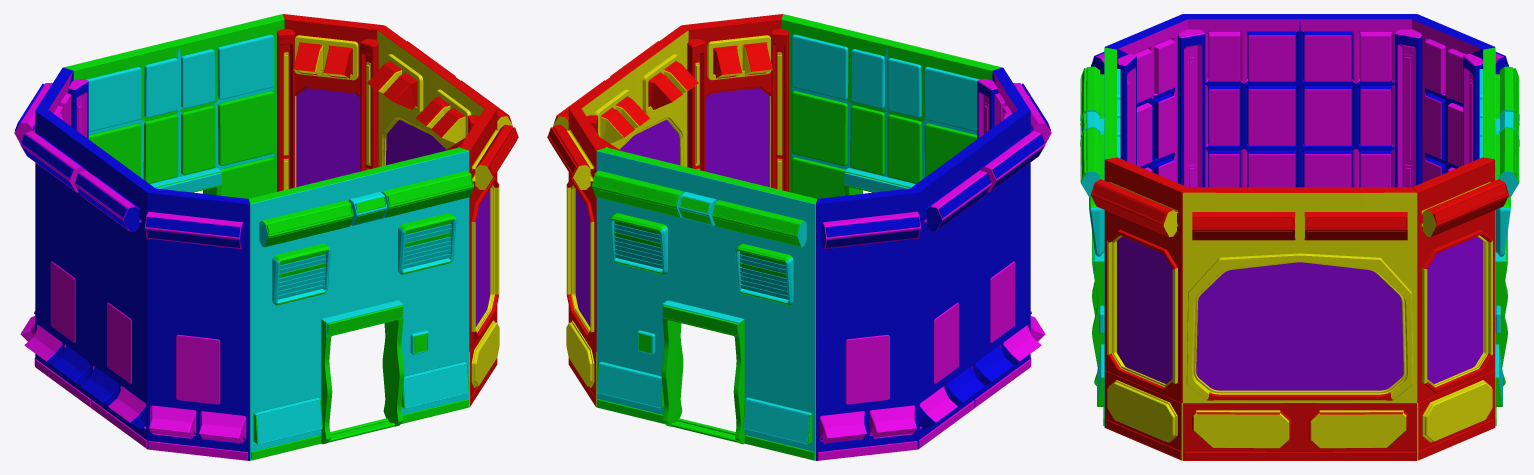
The model's file is Chamber_4_1.fbx.
3 renders of one model, left to right at view 1: azimuth 30°, elevation 25°; view 2: azimuth 150°, elevation 25°; view 3: azimuth 270°, elevation 25°, orthographic. The views are drawn at different scales.
Parts seen in each view (by area): view 1: polySurface209; view 2: polySurface209; view 3: polySurface209.
Boxes of the visible parts, x1=… form: polySurface209: x1=14, y1=14, x2=518, y2=460; polySurface209: x1=547, y1=14, x2=1051, y2=460; polySurface209: x1=1080, y1=14, x2=1519, y2=460.
Bounding box in the file's own units: 924 × 582 × 863.
